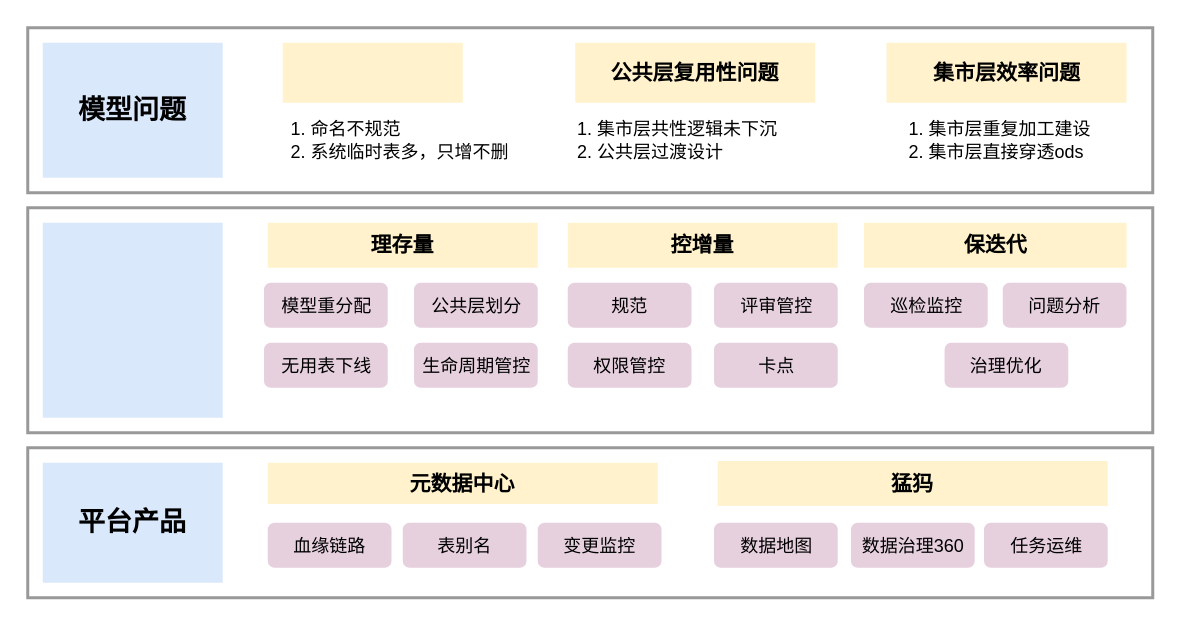
Some shapes in this 1179 by 624 pixel diagram are drawn without their labels. Each missing label, with the centre of its shape:
"模型项目" goes at pixel 132 319.
"规范性问题" goes at pixel 372 72.
